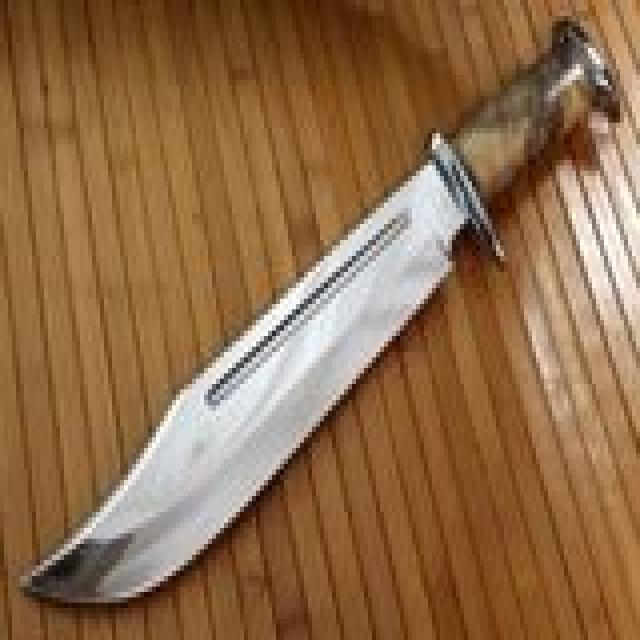Knife: (4, 7, 618, 625)
